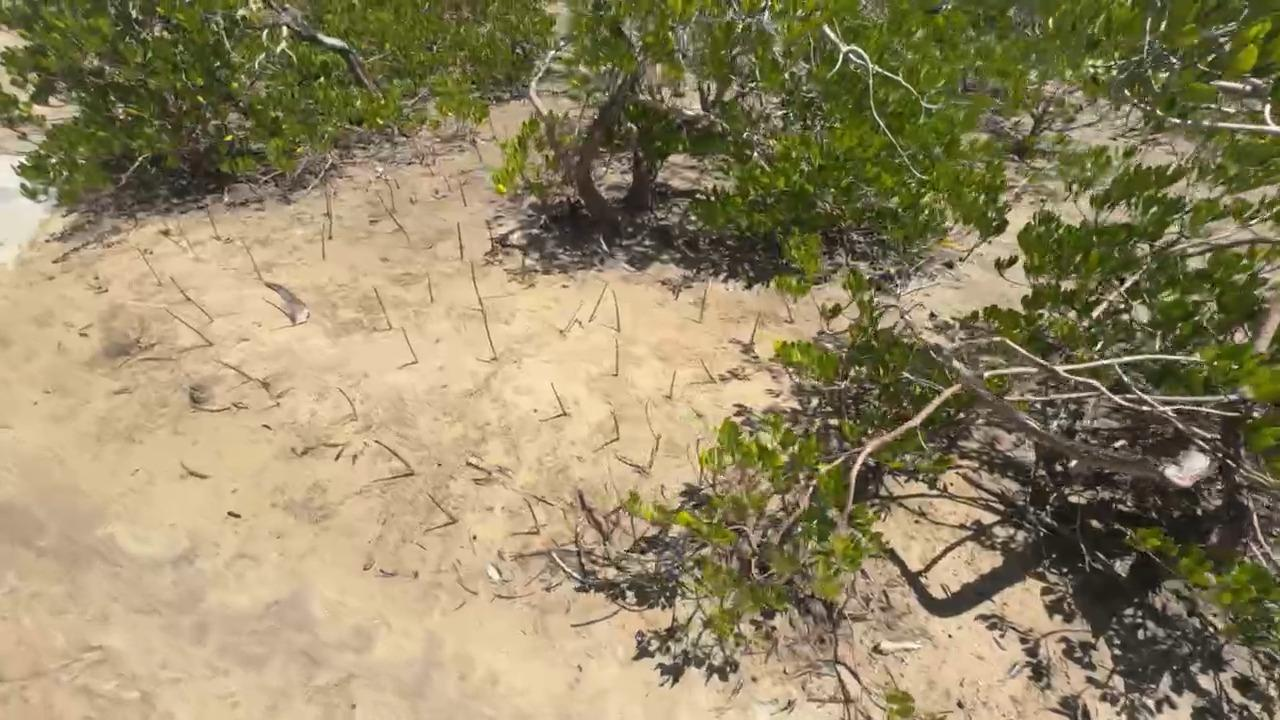Tree: (166, 309, 214, 346), (373, 439, 414, 474), (427, 492, 458, 523), (137, 248, 161, 285), (262, 297, 296, 323), (373, 287, 393, 329), (241, 242, 263, 280), (215, 359, 254, 380), (481, 310, 497, 360), (588, 284, 607, 324), (186, 294, 214, 320), (336, 386, 357, 419), (561, 303, 583, 333), (522, 497, 540, 533), (402, 326, 419, 363), (471, 261, 484, 309), (388, 212, 409, 241), (551, 381, 567, 416), (169, 276, 191, 301), (648, 434, 662, 469), (700, 359, 717, 384), (749, 312, 761, 342), (208, 209, 219, 239), (610, 409, 620, 440), (613, 290, 620, 333), (699, 288, 708, 320), (456, 221, 463, 260), (485, 218, 494, 247), (427, 272, 434, 304), (459, 179, 467, 206), (669, 369, 676, 399), (321, 223, 326, 260), (387, 183, 394, 208), (328, 205, 333, 240), (615, 338, 619, 377), (787, 302, 794, 323), (324, 192, 329, 216)
